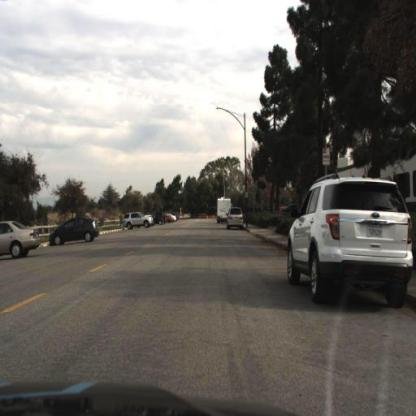car: (288, 171, 414, 312), (46, 216, 101, 249), (45, 212, 101, 244), (122, 209, 158, 231), (230, 207, 247, 232), (227, 208, 245, 231), (154, 210, 168, 228)
truck: (213, 197, 233, 229)
